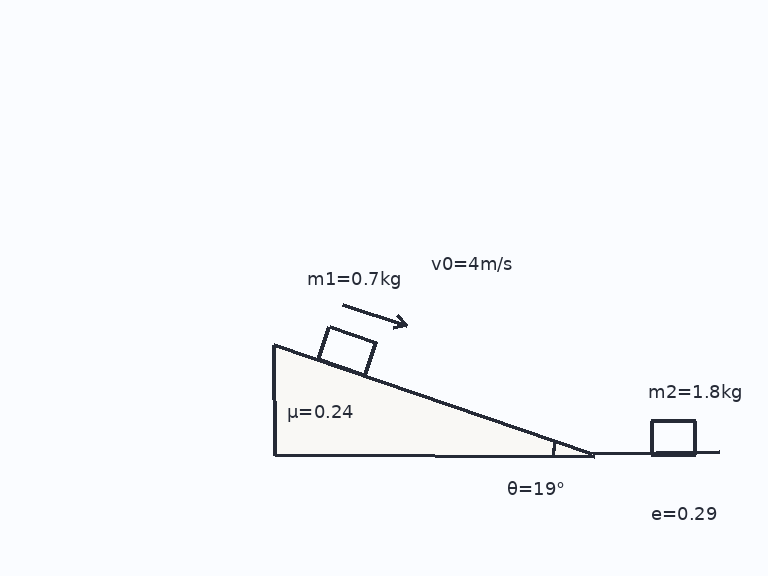block: (316, 324, 378, 377), (649, 420, 697, 456)
ramp: (272, 342, 595, 456)
